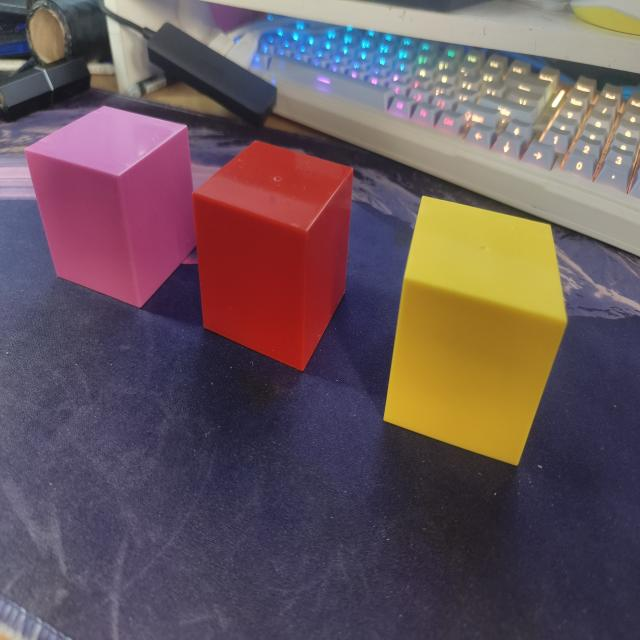pink: (21, 108, 193, 306)
red: (184, 134, 358, 377)
yellow: (384, 192, 572, 470)
